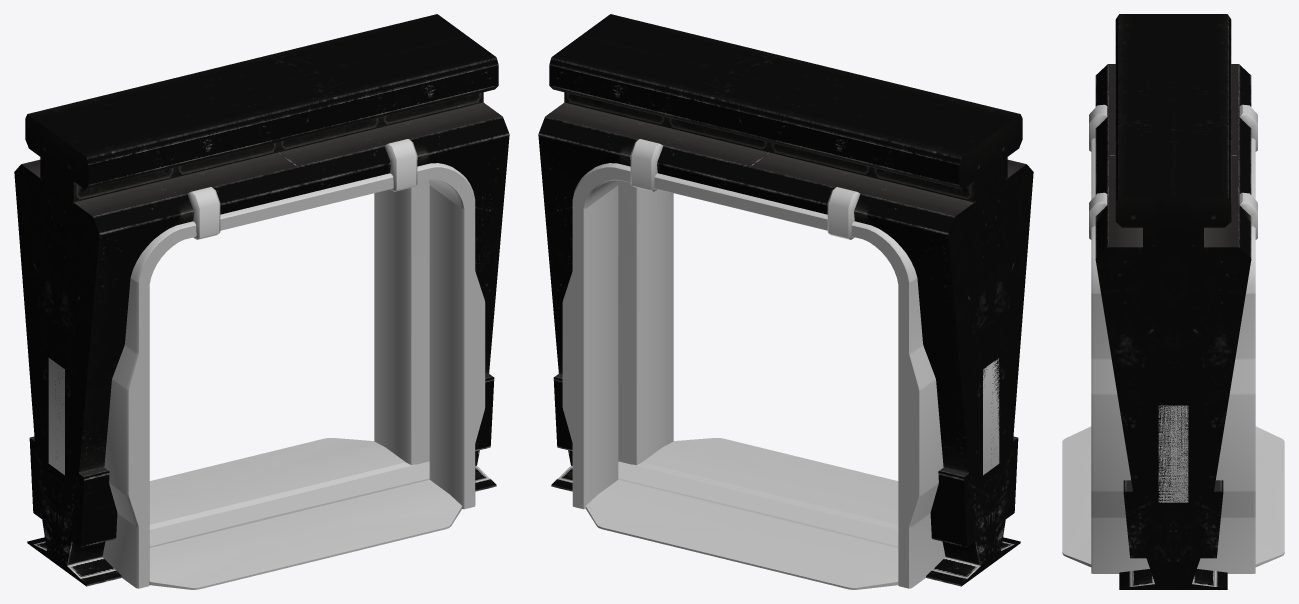
The model's file is SM_Wall_Door_A.FBX.
The picture shows the model from 3 angles, left to right: view 1: azimuth 30°, elevation 25°; view 2: azimuth 150°, elevation 25°; view 3: azimuth 270°, elevation 25°; orthographic projection. The views are drawn at different scales.
Parts seen in each view (by area): view 1: SM_Wall_Door_A; view 2: SM_Wall_Door_A; view 3: SM_Wall_Door_A.
Part boxes in pixels (x1,y1,x2,y2): SM_Wall_Door_A: [14, 14, 509, 589]; SM_Wall_Door_A: [538, 14, 1033, 589]; SM_Wall_Door_A: [1062, 14, 1284, 589].
Size of the model in its own units: 400 by 400 by 205.
